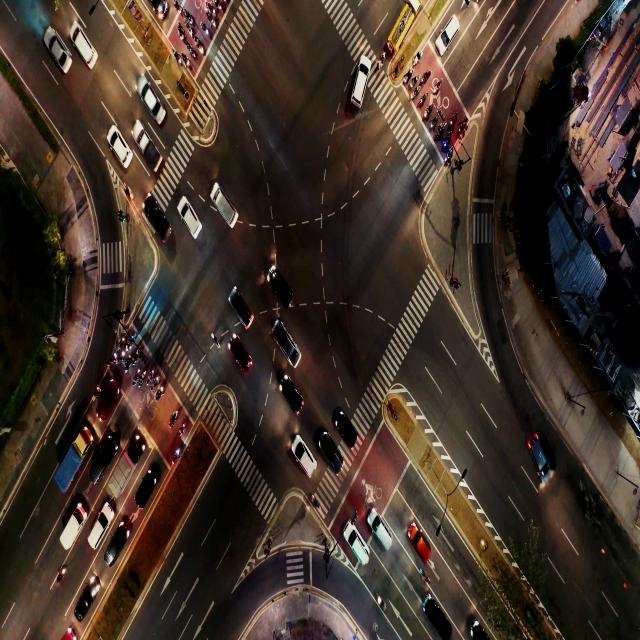bus: (394, 19, 408, 47)
car: (528, 429, 555, 488), (423, 599, 448, 640), (369, 505, 392, 548), (350, 519, 367, 570), (216, 186, 237, 225), (181, 202, 202, 240), (322, 439, 342, 476), (352, 63, 369, 106), (51, 34, 68, 76), (110, 526, 128, 565), (139, 477, 157, 515), (280, 328, 296, 370), (439, 14, 463, 42), (267, 269, 289, 299), (282, 384, 303, 412), (234, 339, 250, 374), (74, 38, 97, 62), (149, 204, 165, 238), (76, 583, 95, 610), (340, 413, 354, 449), (140, 85, 158, 112), (297, 441, 311, 474), (412, 529, 426, 561), (234, 298, 250, 326), (111, 135, 125, 161), (94, 446, 107, 474), (102, 390, 116, 414), (93, 520, 107, 542)
motorcycle: (310, 492, 320, 514), (418, 568, 429, 584), (178, 421, 188, 438), (172, 445, 181, 463), (376, 593, 386, 608), (123, 183, 132, 198), (210, 333, 218, 349), (433, 81, 443, 93), (133, 370, 140, 387), (197, 38, 204, 55), (170, 409, 176, 428), (423, 70, 430, 86), (176, 24, 183, 40), (201, 22, 209, 36), (157, 384, 163, 402), (188, 46, 196, 59), (208, 14, 216, 26), (378, 53, 384, 68), (216, 2, 225, 12), (172, 2, 180, 13), (139, 371, 144, 388), (460, 122, 466, 136), (449, 118, 455, 132), (420, 96, 426, 110), (134, 350, 140, 364), (174, 52, 181, 64), (443, 139, 449, 151), (124, 359, 130, 371), (208, 4, 216, 13), (414, 86, 421, 96), (406, 72, 413, 82), (182, 53, 187, 67), (187, 24, 192, 37), (432, 114, 437, 126), (416, 50, 420, 64), (148, 370, 152, 384), (110, 353, 114, 367), (447, 150, 452, 161), (426, 107, 430, 120), (153, 376, 157, 389), (128, 337, 132, 350), (120, 336, 124, 349), (413, 74, 417, 86), (186, 10, 190, 22), (94, 387, 98, 398), (438, 127, 442, 137), (119, 352, 122, 365)
truck: (133, 131, 157, 164), (116, 456, 133, 488), (63, 446, 78, 475), (64, 517, 78, 539)
